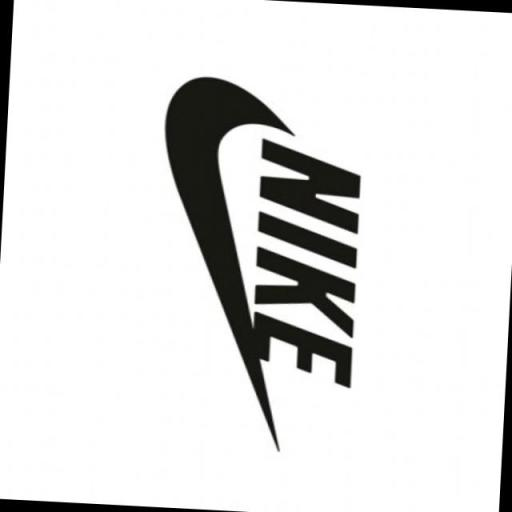Nike: (148, 74, 284, 405), (246, 137, 364, 392)
